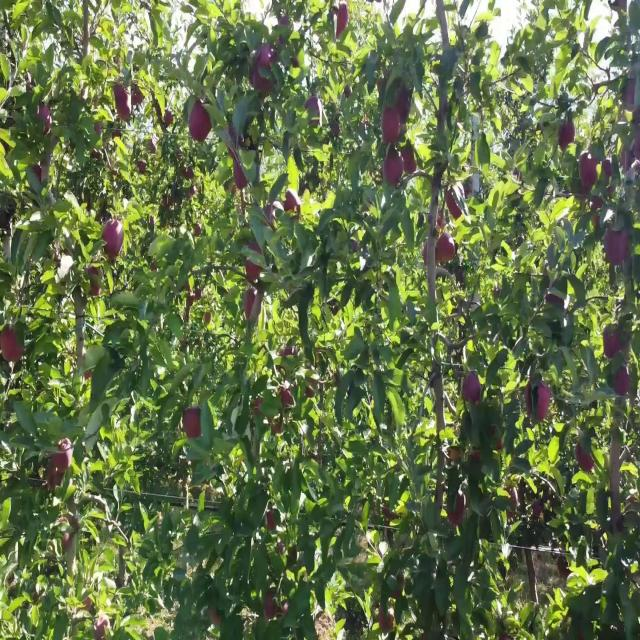apple: (524, 383, 552, 423), (604, 227, 630, 268), (0, 327, 24, 363), (192, 99, 212, 142), (244, 241, 264, 284), (104, 220, 124, 258), (384, 149, 403, 187), (52, 440, 72, 475), (184, 405, 203, 441), (580, 156, 599, 192), (624, 78, 640, 119), (624, 135, 640, 176), (384, 106, 401, 144), (60, 519, 79, 553), (448, 497, 468, 528), (436, 234, 457, 263), (116, 85, 132, 121), (464, 376, 483, 405), (576, 447, 595, 475), (252, 71, 272, 96), (560, 120, 576, 151), (604, 334, 622, 361), (616, 369, 632, 398), (116, 92, 132, 121), (336, 7, 350, 39), (380, 604, 395, 633), (396, 92, 411, 121), (244, 291, 258, 320), (404, 149, 418, 178), (448, 191, 462, 220), (592, 199, 604, 231), (88, 270, 101, 299), (40, 106, 52, 135), (236, 163, 248, 192), (188, 284, 202, 308), (284, 191, 299, 213), (48, 469, 63, 491), (32, 163, 47, 185), (260, 49, 276, 69), (64, 526, 75, 553), (548, 291, 564, 308), (632, 135, 640, 169), (132, 85, 144, 107), (268, 590, 277, 619), (96, 618, 108, 639), (308, 99, 320, 119), (32, 163, 44, 183), (188, 291, 202, 308), (436, 213, 446, 233), (212, 604, 221, 626), (268, 511, 276, 533), (604, 163, 613, 181), (496, 433, 504, 453), (164, 113, 173, 128), (284, 391, 293, 405), (280, 14, 289, 28), (536, 504, 544, 519), (308, 383, 316, 398), (424, 241, 429, 265), (84, 597, 92, 612), (256, 398, 263, 412), (272, 426, 282, 434), (352, 241, 360, 249)
